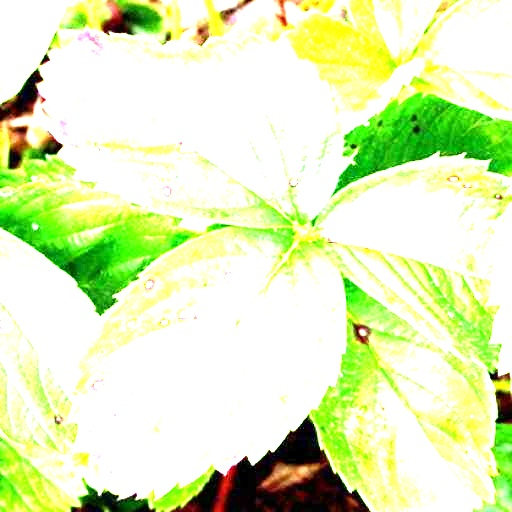Leaf Spot: (67, 226, 348, 500), (36, 21, 344, 229), (310, 272, 499, 511), (307, 152, 511, 372), (0, 229, 104, 474)
